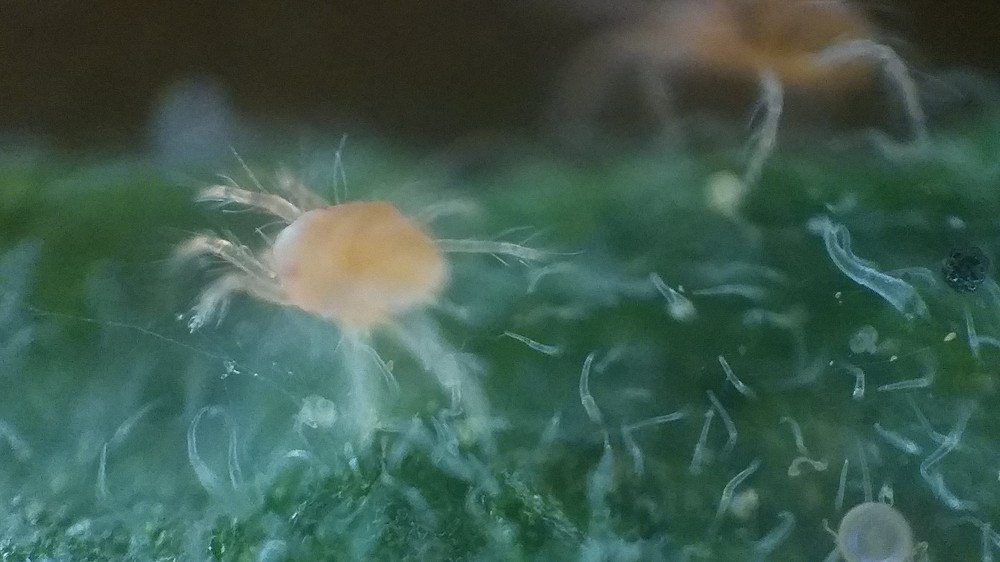Aracnido Rojo: (156, 137, 560, 412)
